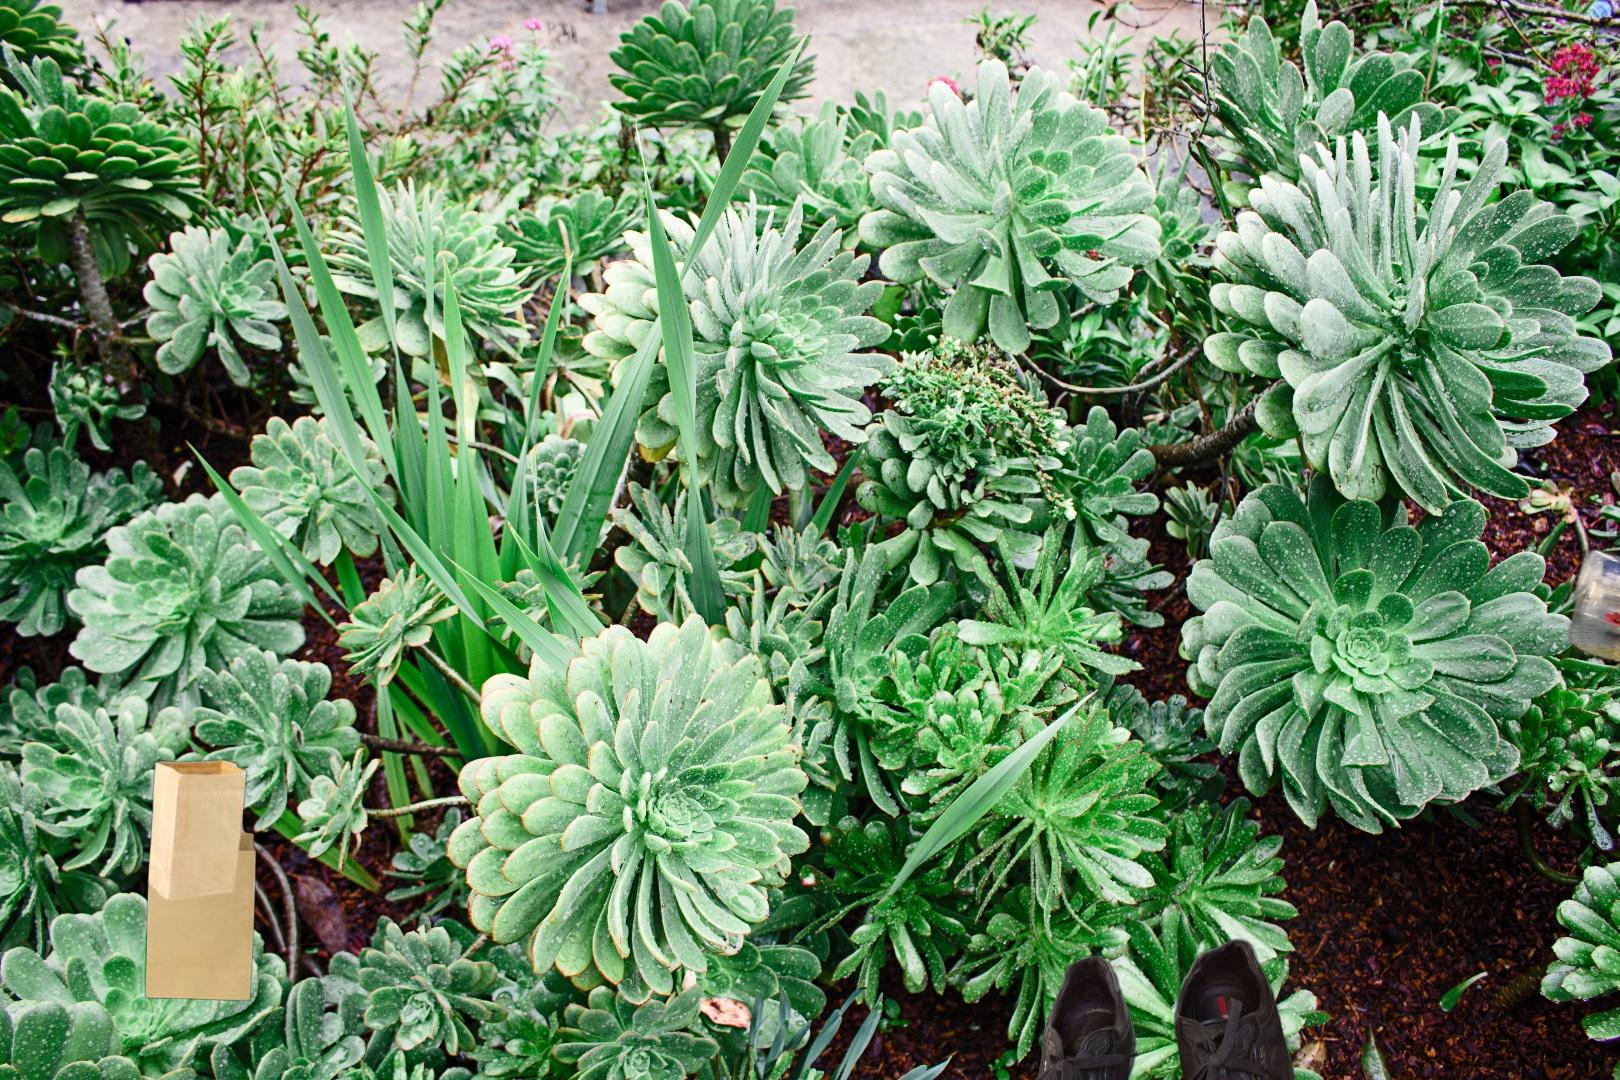paper-bag: (143, 758, 286, 1005)
plastic-bottles: (1561, 540, 1620, 676)
shoes: (1005, 935, 1322, 1080)
